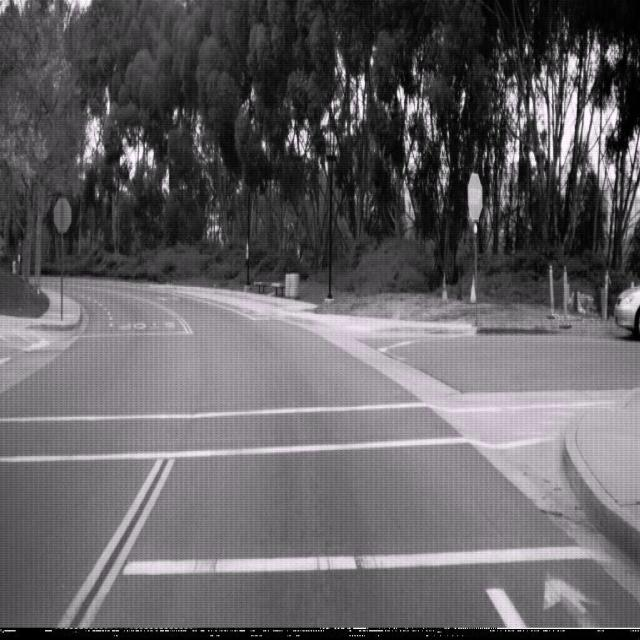stop_sign: (467, 170, 483, 222)
